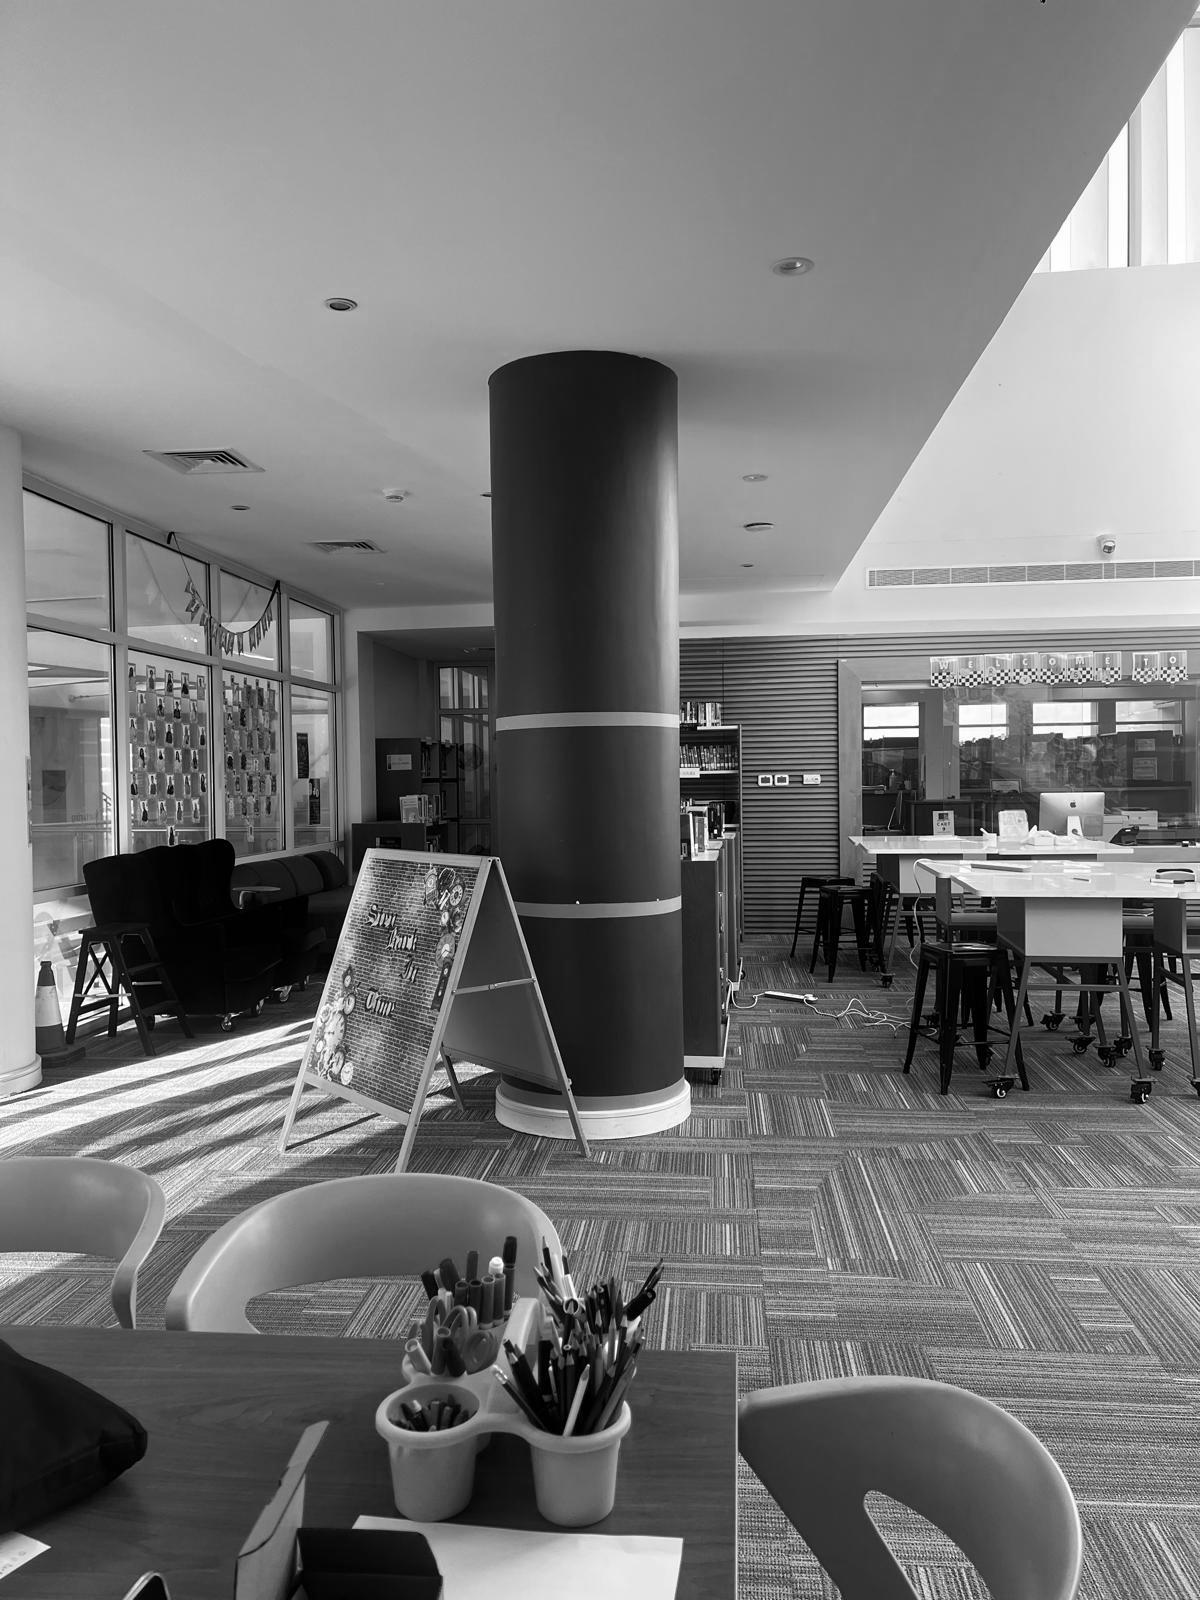Chair: (739, 1376, 1080, 1599), (169, 1174, 555, 1332), (0, 1157, 165, 1327), (904, 939, 1016, 1094), (812, 883, 850, 981)
Couch: (84, 842, 305, 1036), (234, 850, 352, 946)
Pillar: (492, 351, 689, 1134)
Table: (0, 1327, 398, 1599), (933, 862, 1199, 1104), (603, 1352, 736, 1599), (466, 1441, 565, 1537)
Wall: (682, 265, 1199, 639), (679, 622, 1199, 931), (739, 1374, 1083, 1599), (164, 1174, 556, 1333), (0, 1158, 165, 1328)
